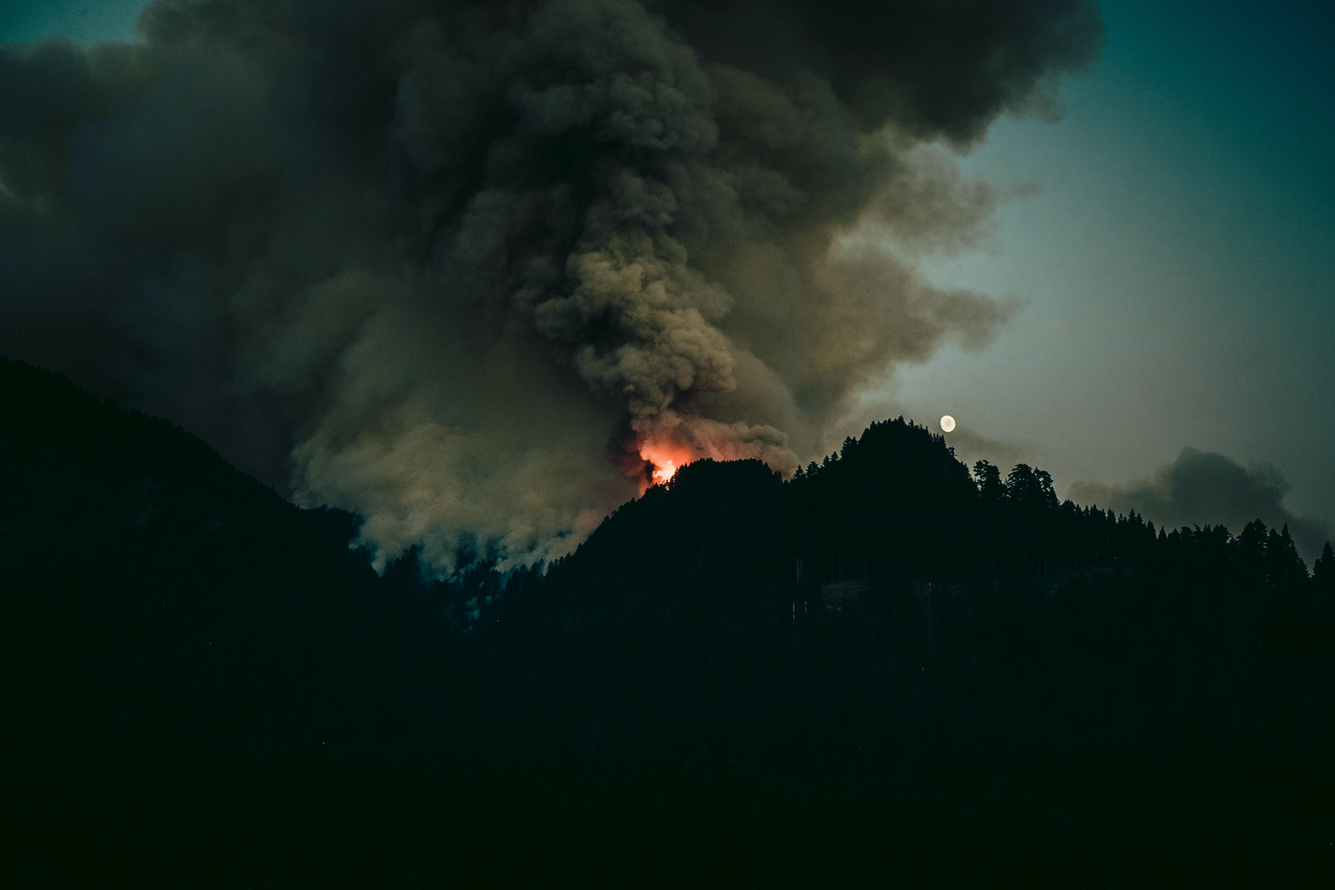fire: (502, 189, 902, 601), (592, 392, 750, 538)
